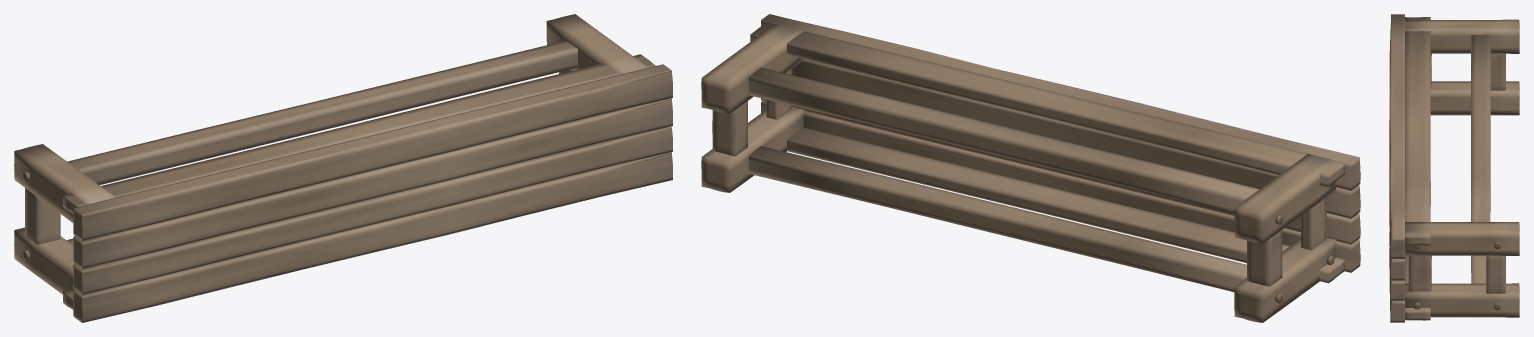
The model's file is prison_bench.glb.
The picture shows the model from 3 angles, left to right: view 1: azimuth 30°, elevation 25°; view 2: azimuth 150°, elevation 25°; view 3: azimuth 270°, elevation 25°; orthographic projection. The views are drawn at different scales.
Visible parts, largest first — view 1: world; view 2: world; view 3: world.
Part boxes in pixels (x1=…): world: x1=14, y1=14, x2=672, y2=322; world: x1=701, y1=14, x2=1360, y2=322; world: x1=1389, y1=14, x2=1519, y2=322.
Bounding box in the file's own units: 1.92 × 0.341 × 0.4718.
